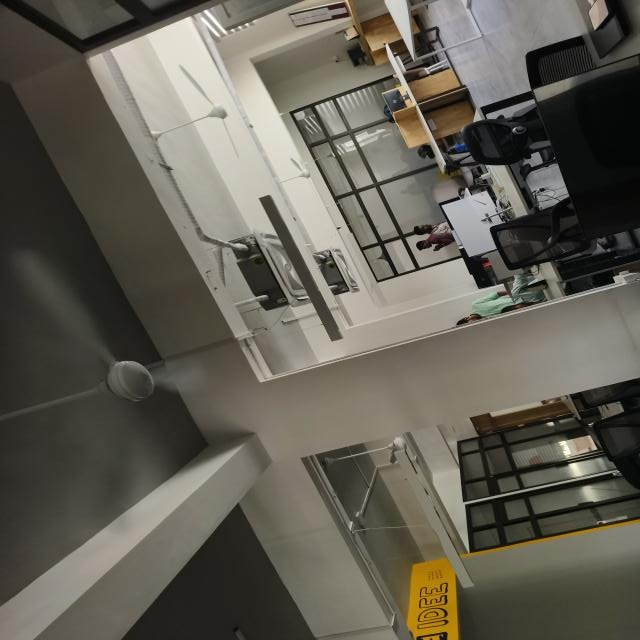fluorescent tube: (252, 189, 352, 343), (387, 444, 478, 592)
